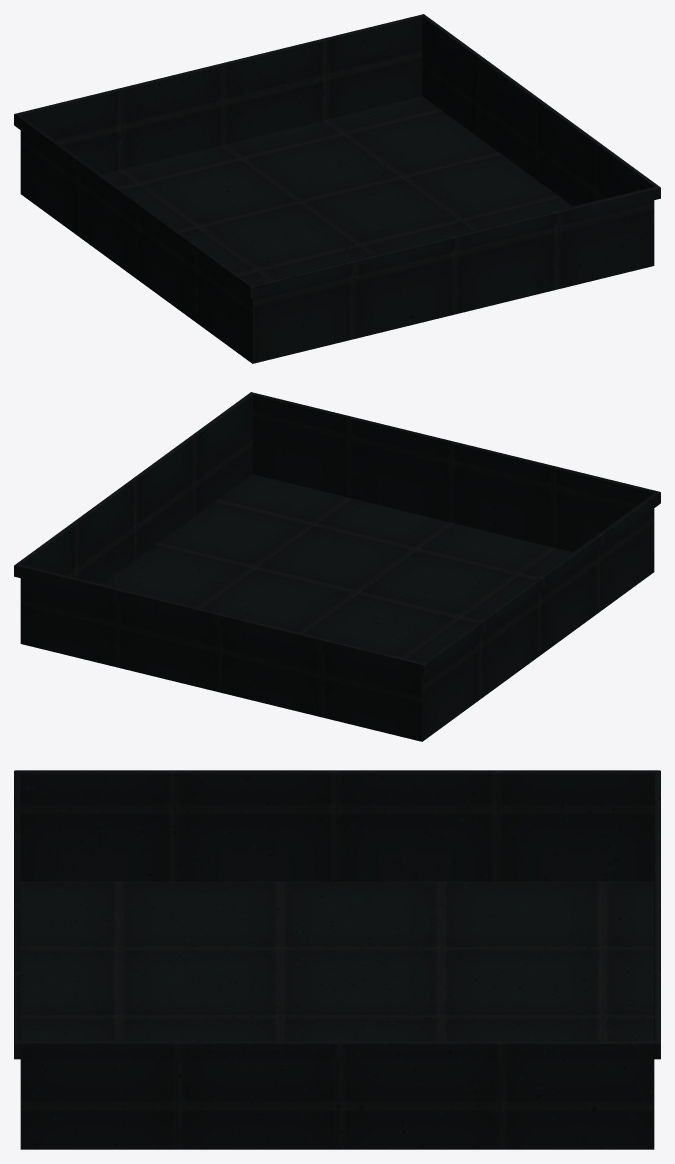
Rendered from ServerRoomCeilingInset.fbx.
3 renders of one model, top to bottom at view 1: azimuth 30°, elevation 25°; view 2: azimuth 150°, elevation 25°; view 3: azimuth 270°, elevation 25°, orthographic. The views are drawn at different scales.
Parts seen in each view (by area): view 1: ServerRoom_Floor11; view 2: ServerRoom_Floor11; view 3: ServerRoom_Floor11.
Part boxes in pixels (x1,y1,x2,y2): ServerRoom_Floor11: (14,14,660,363); ServerRoom_Floor11: (14,392,660,741); ServerRoom_Floor11: (14,770,660,1149).
Size of the model in its own units: 513 by 95.36 by 513.
Materials: 1 (1 with a texture image).
